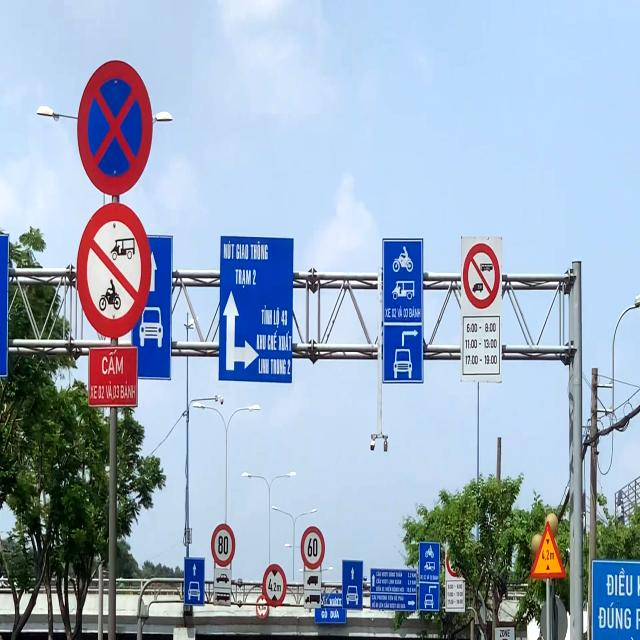P.117: (261, 562, 288, 608)
P.127: (208, 520, 238, 568), (299, 523, 328, 571)
P.130: (72, 52, 156, 199)
S.509a: (528, 519, 568, 583)
